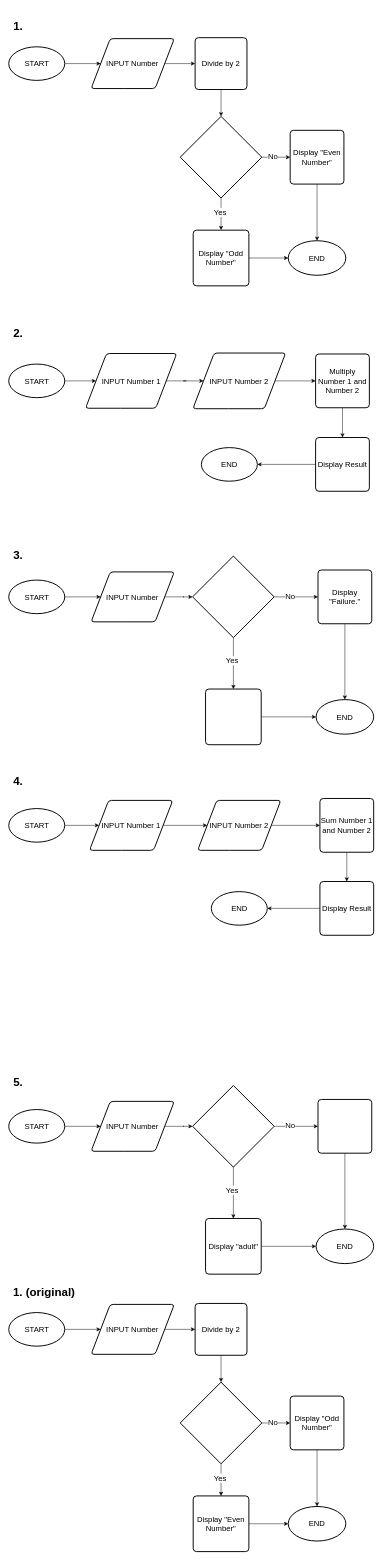
This 383x1560 diagram has some shape labels left out. The shapes that lost their labels are listed below. From the top down, each one's centre as x and y in pixels, then its label:
[221,157]: Does it leave a reminder?
[233,596]: Is it above 60?
[233,716]: Display "you passed "
[233,1126]: Is it above 18?
[344,1126]: Display "Not an adult"
[221,1422]: Result an integer?
